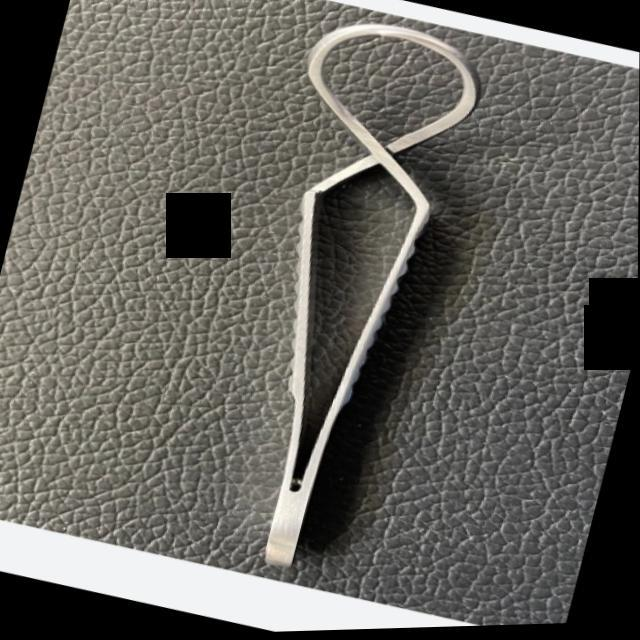Jones Towel Clamp: (167, 0, 518, 604)
